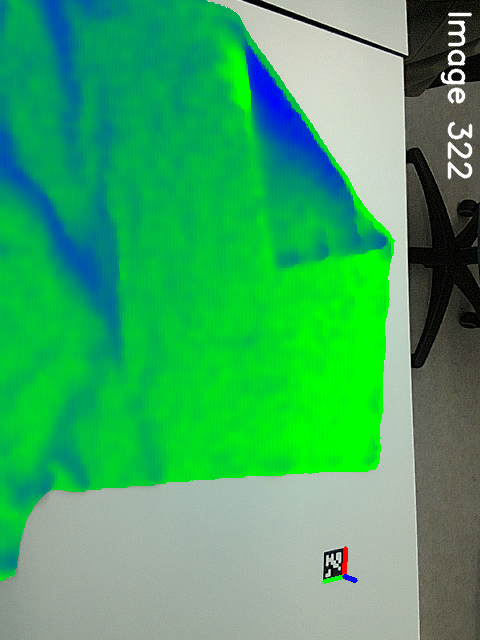V: (256, 211, 320, 277)
